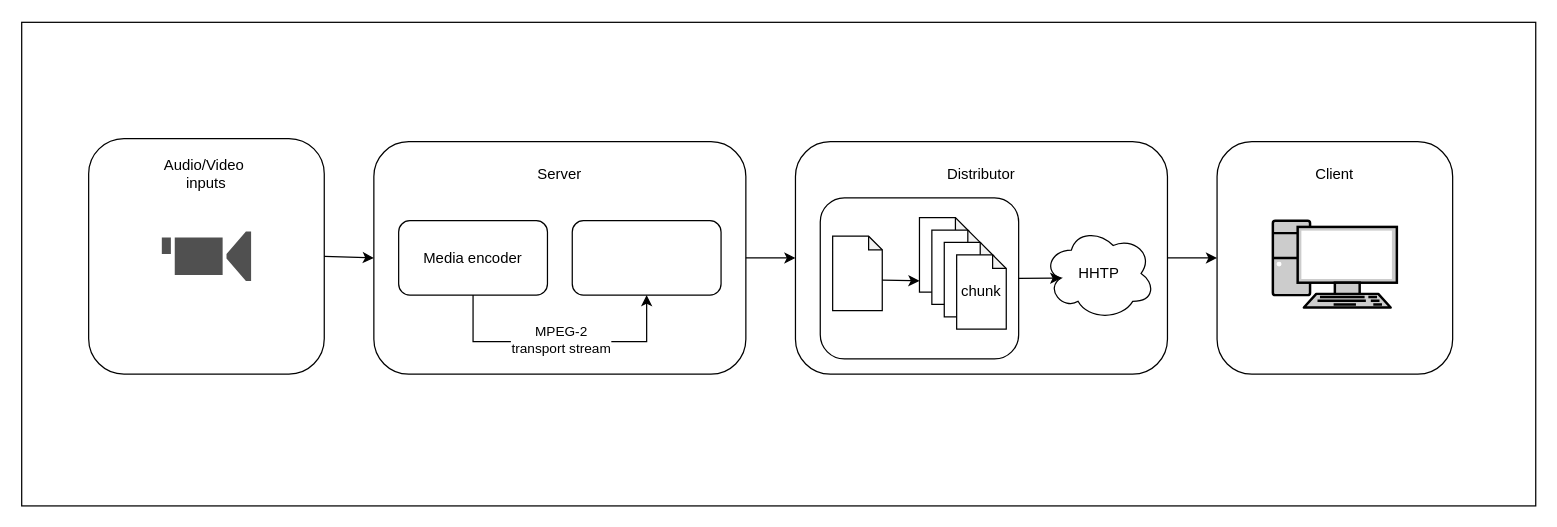
This 1557x527 diagram has some shape labels left out. Each missing label, with the box of its shape:
Index file: (831, 235, 882, 311)
Stream segmenter: (571, 219, 721, 295)
